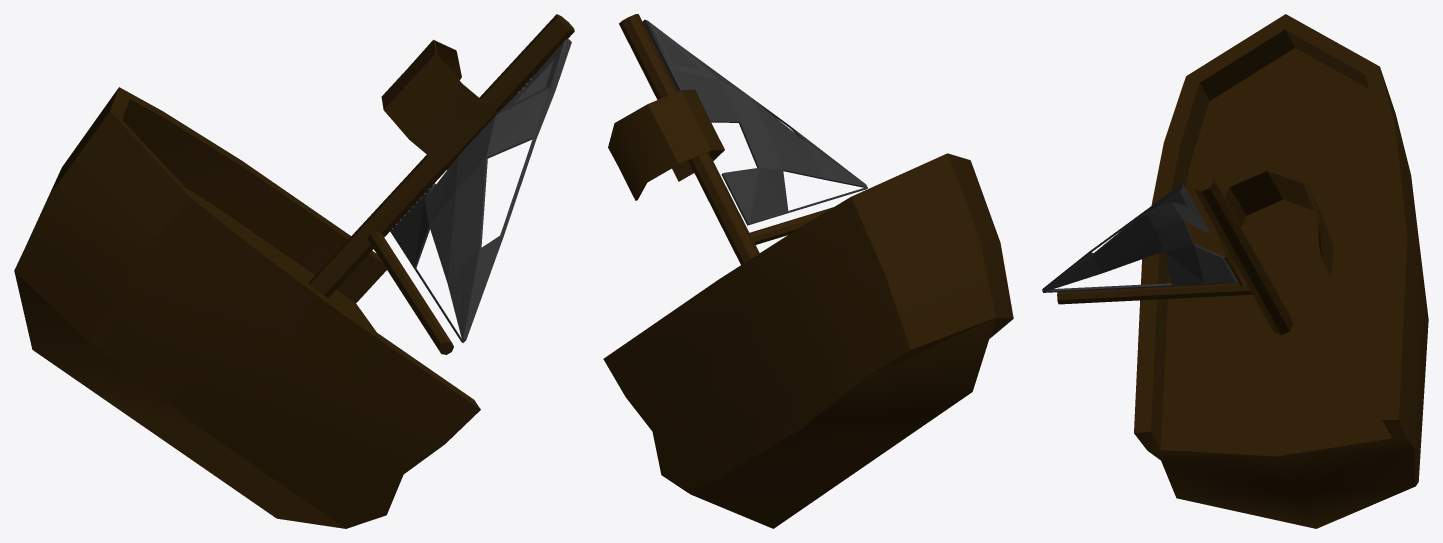
The model's file is Wrack.fbx.
3 renders of one model, left to right at view 1: azimuth 30°, elevation 25°; view 2: azimuth 150°, elevation 25°; view 3: azimuth 270°, elevation 25°, orthographic. The views are drawn at different scales.
Parts seen in each view (by area): view 1: Schiff, segel, korb, Haupt_Mast, Segel_mast; view 2: Schiff, segel, korb, Haupt_Mast, Segel_mast; view 3: Schiff, segel, Haupt_Mast, korb, Segel_mast.
Boxes of the visible parts, x1,y1,x2,y2 form: Schiff: (14, 87, 480, 528); segel: (390, 39, 571, 342); korb: (381, 39, 497, 169); Haupt_Mast: (308, 14, 574, 297); Segel_mast: (368, 231, 453, 354); Schiff: (603, 153, 1013, 528); segel: (642, 19, 867, 225); korb: (608, 89, 724, 200); Haupt_Mast: (619, 14, 759, 264); Segel_mast: (749, 207, 833, 244); Schiff: (1134, 14, 1428, 528); segel: (1042, 182, 1237, 292); Haupt_Mast: (1190, 170, 1293, 334); korb: (1210, 168, 1333, 286); Segel_mast: (1057, 281, 1252, 304).
Bounding box in the file's own units: 1348 × 1283 × 980.
